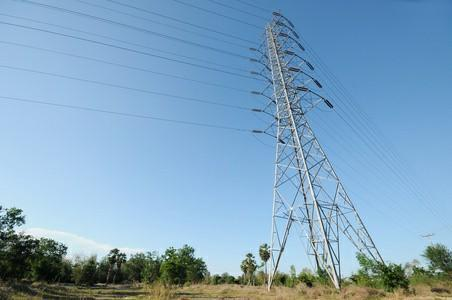power_tower: (250, 11, 393, 288)
